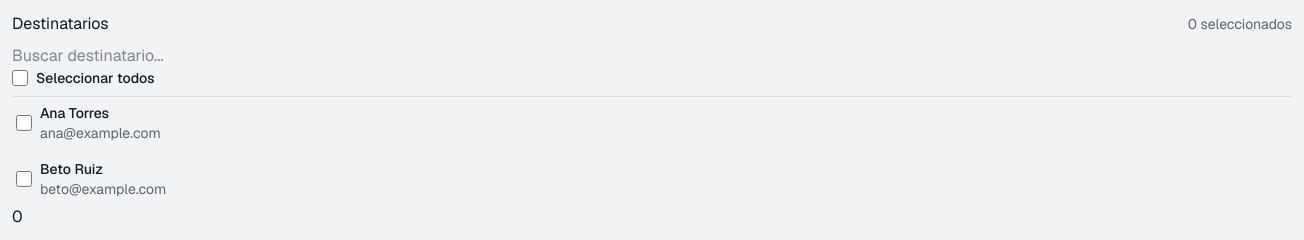
FormRecipientSelect › filters the checklist by name or email
Type "beto" into the search field with placeholder "Buscar destinatario..." at (121, 56), box top-left (12, 44), bottom-right (230, 68)
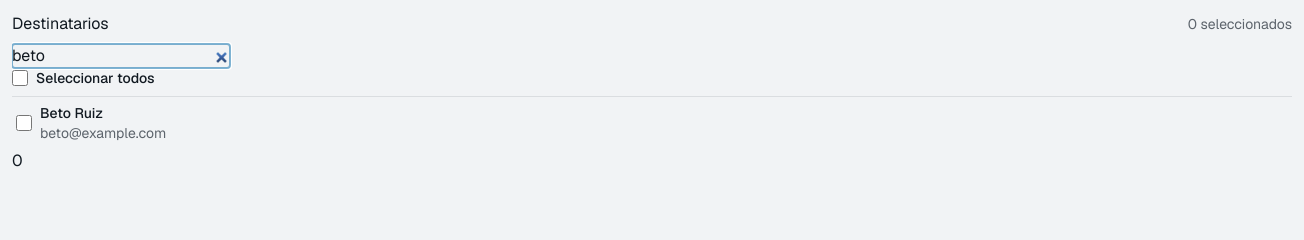
Expected: the text "Beto Ruiz" is shown, top-left (40, 104), bottom-right (103, 122)
Result: the text "Ana Torres" is gone
